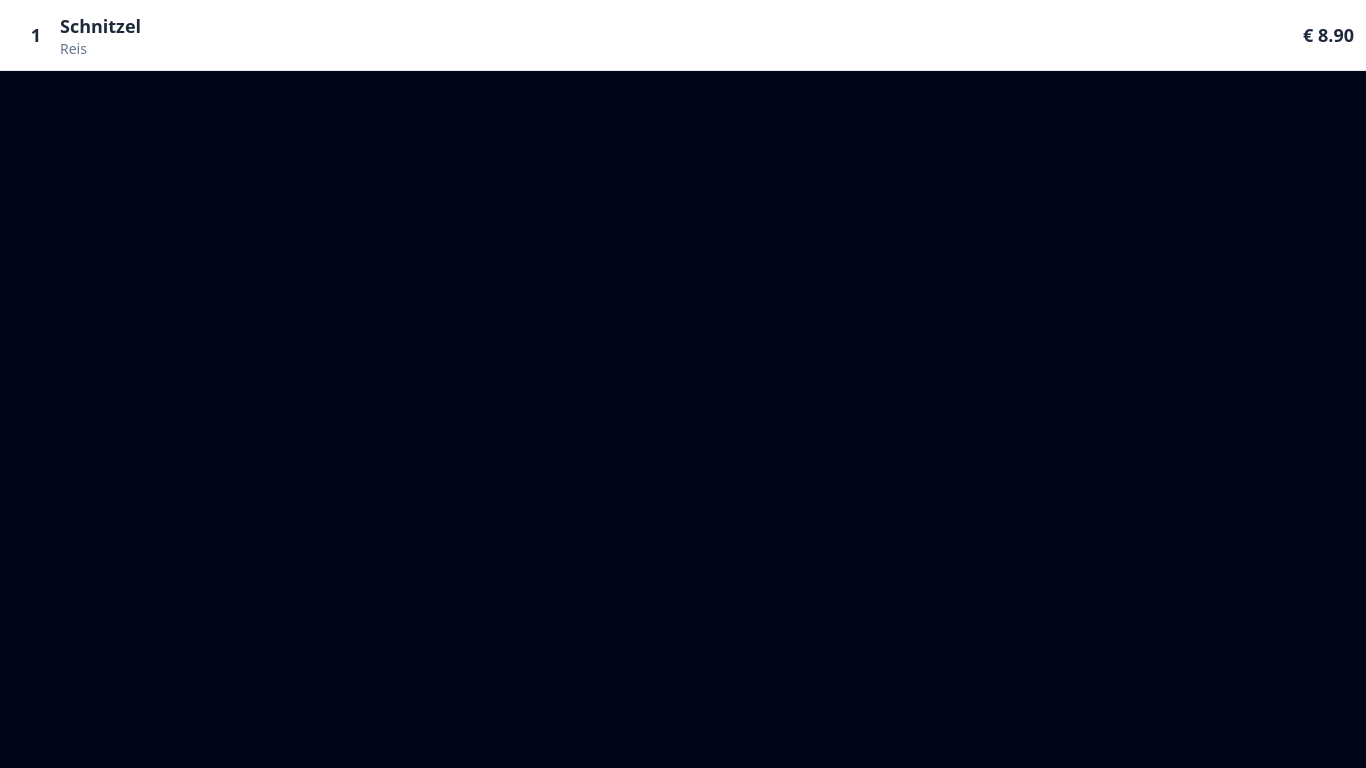
Test case: Warenkorbzeile – Auswahl ändern vor dem Absenden (Issue #82) › öffnet beim Tippen auf den mittleren Bereich die Maske vorbelegt mit der bisherigen Auswahl
This screenshot has width=1366, height=768.
Click the button with aria-label "Auswahl von Schnitzel ändern".
click(101, 26)  # box [60, 12, 1250, 58]
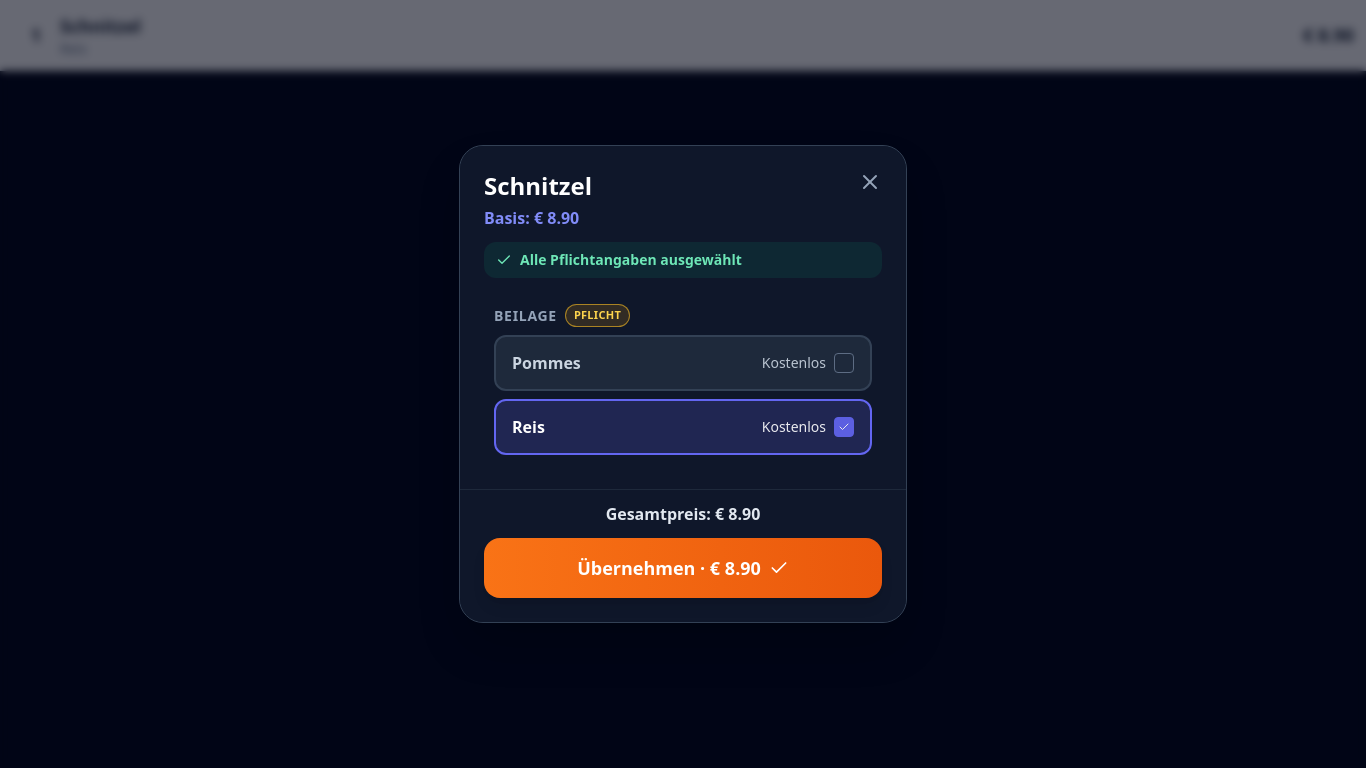
Result: the button "Übernehmen · € 8.90" is shown at [484, 538, 882, 598]
